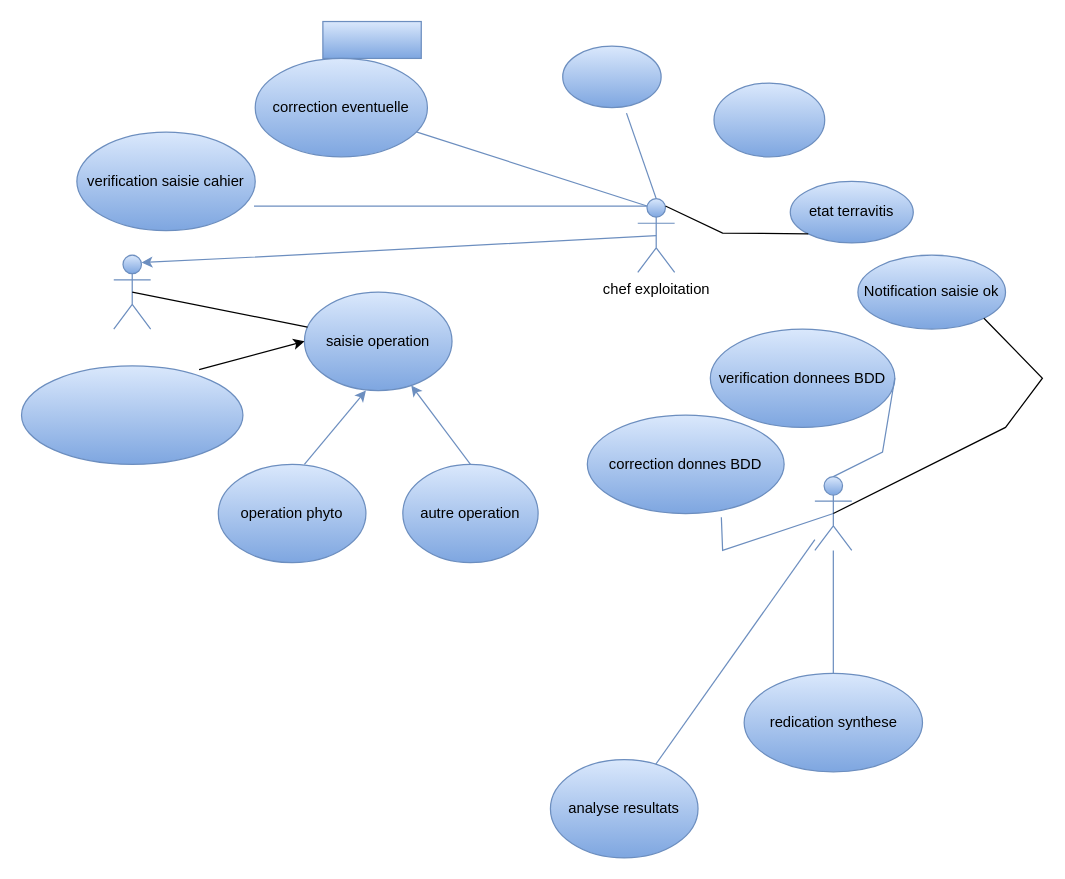
The diagram is 1065 pixels wide and 879 high, and some of its shapes have lost their labels. The centre of each missing label's shape, as x and y in pixels:
"chercheur" belongs at point (833, 512).
"consultation du glossaire" belongs at point (131, 414).
"idntification" belongs at point (769, 119).
"ouvrier Agricole" belongs at point (132, 291).
"Question 2" belongs at point (371, 39).
"saisie" belongs at point (611, 76).
